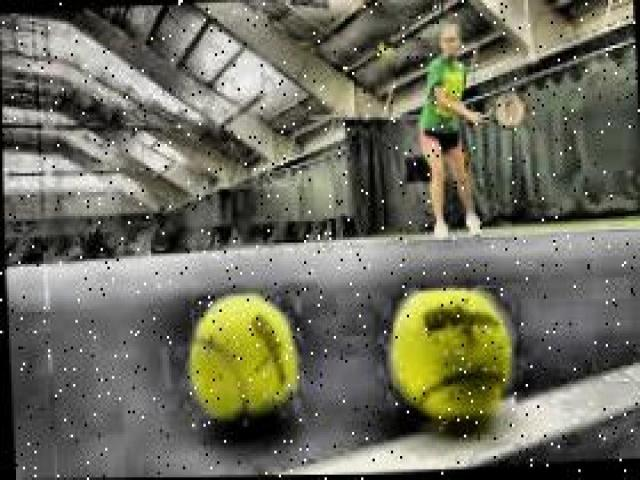tennis-ball: (391, 288, 513, 420), (185, 292, 297, 429), (382, 42, 395, 59)
